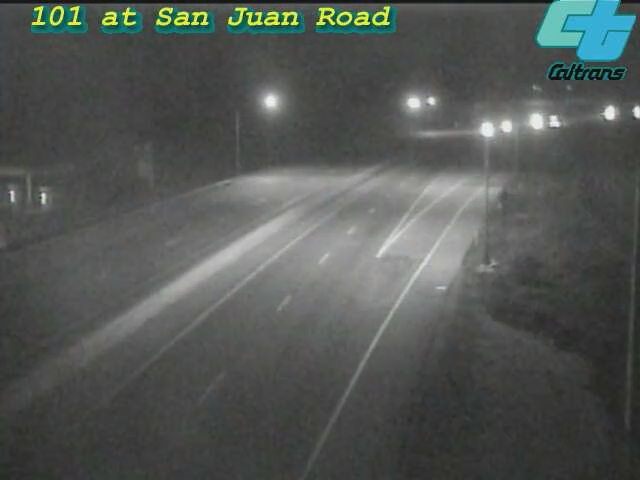vehicle: (528, 97, 578, 147), (461, 105, 511, 155), (511, 96, 561, 146), (480, 102, 530, 152), (583, 87, 633, 137), (612, 86, 640, 136)
